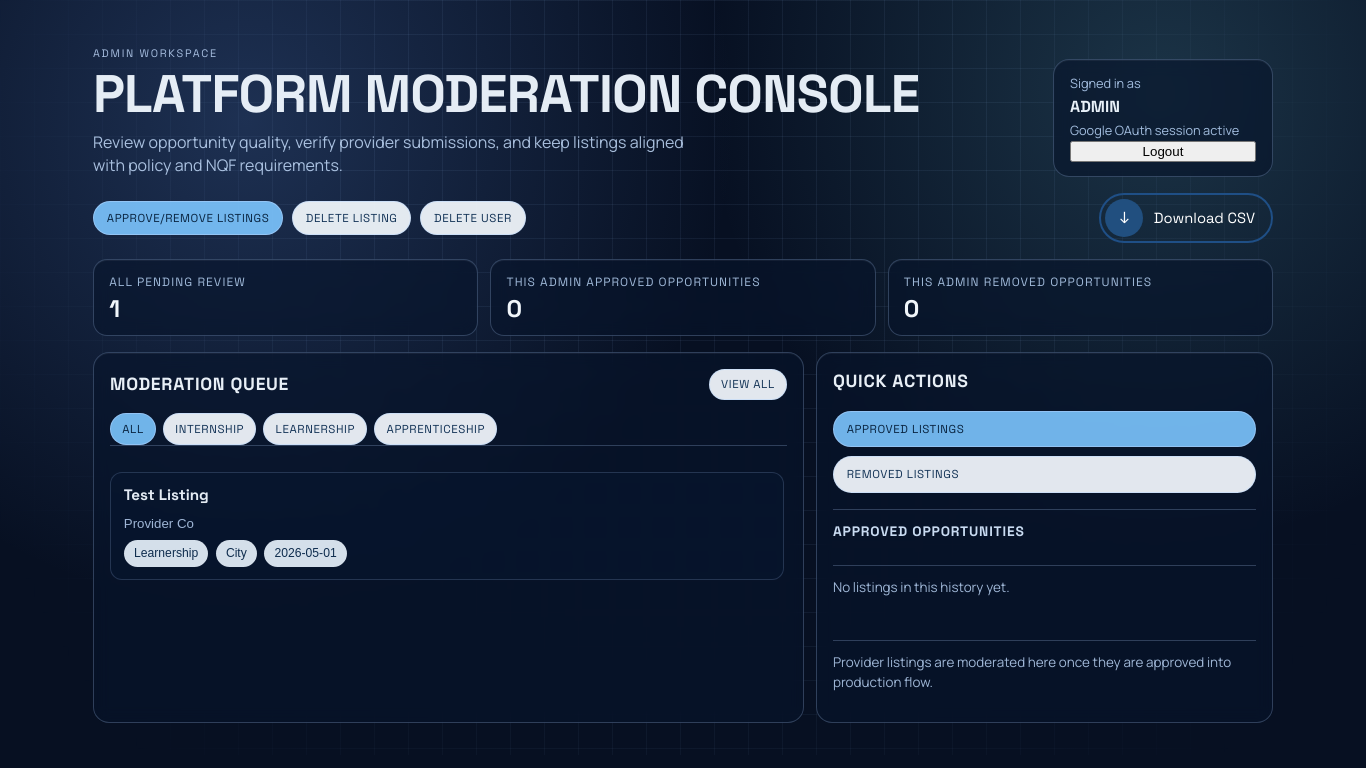
Scenario: Admin moderation queue TDD tests › 17. cancel button in first modal closes the action selection modal
// Click on a listing to open first modal
Click the heading "Test Listing" at (166, 494), box [124, 485, 209, 504]
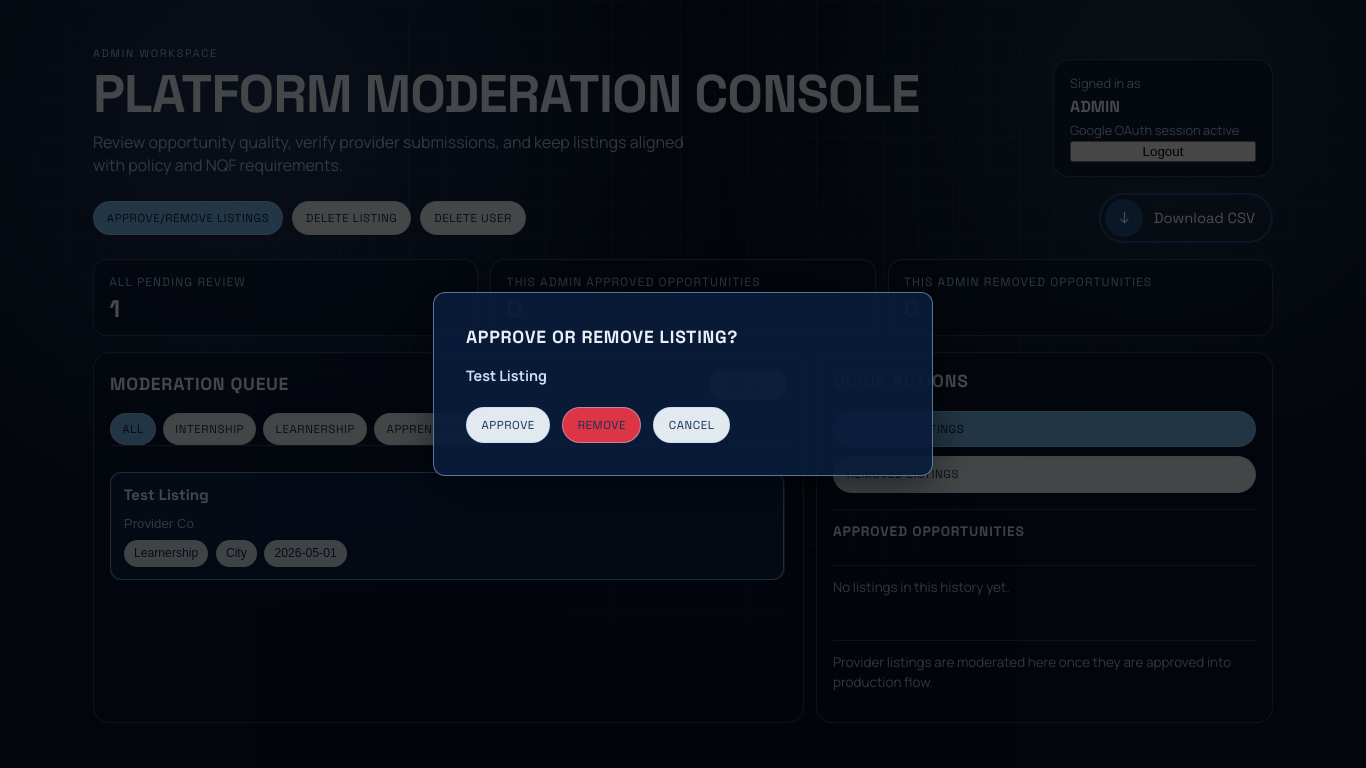
Result: the heading "Approve or Remove Listing?" is shown at [466, 326, 738, 348]
// Click Cancel button in first modal
Click the button "Cancel" at (692, 425), box [653, 407, 730, 444]
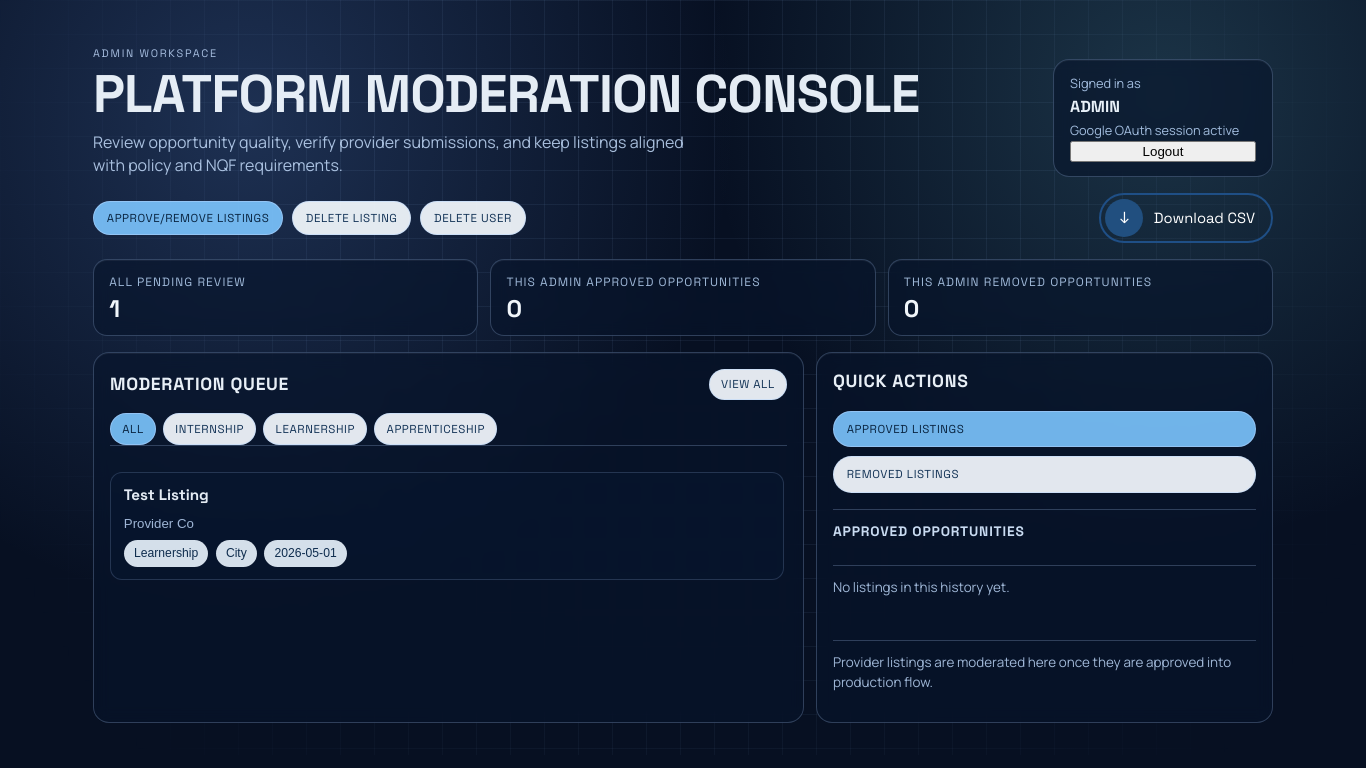
Result: the heading "Approve or Remove Listing" is gone
